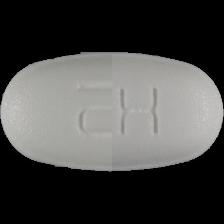54868-0840: (0, 0, 224, 224)
